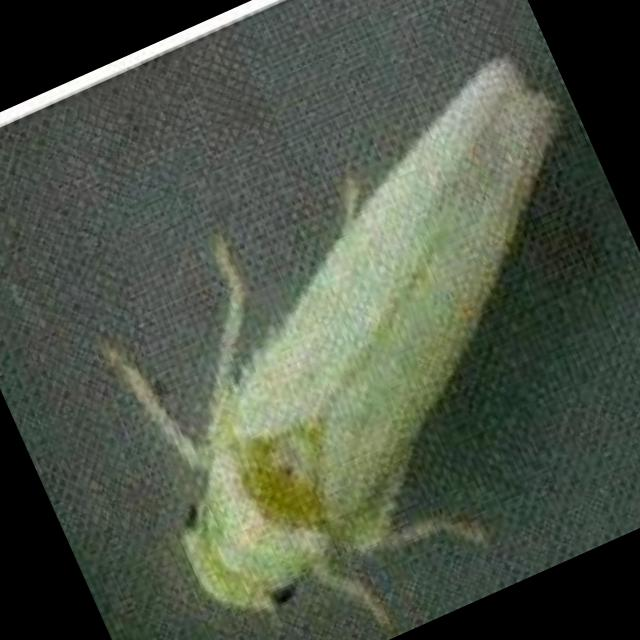green-leafhopper: (57, 47, 640, 639)
